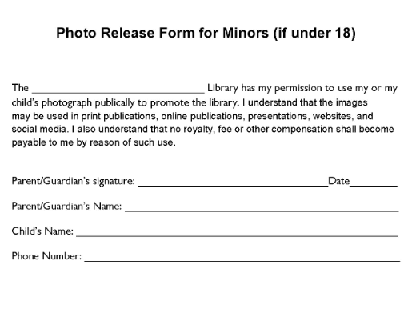textline: (82, 250, 406, 266), (72, 227, 403, 241), (134, 176, 329, 191), (125, 206, 400, 215), (30, 84, 207, 96), (349, 178, 403, 188)
